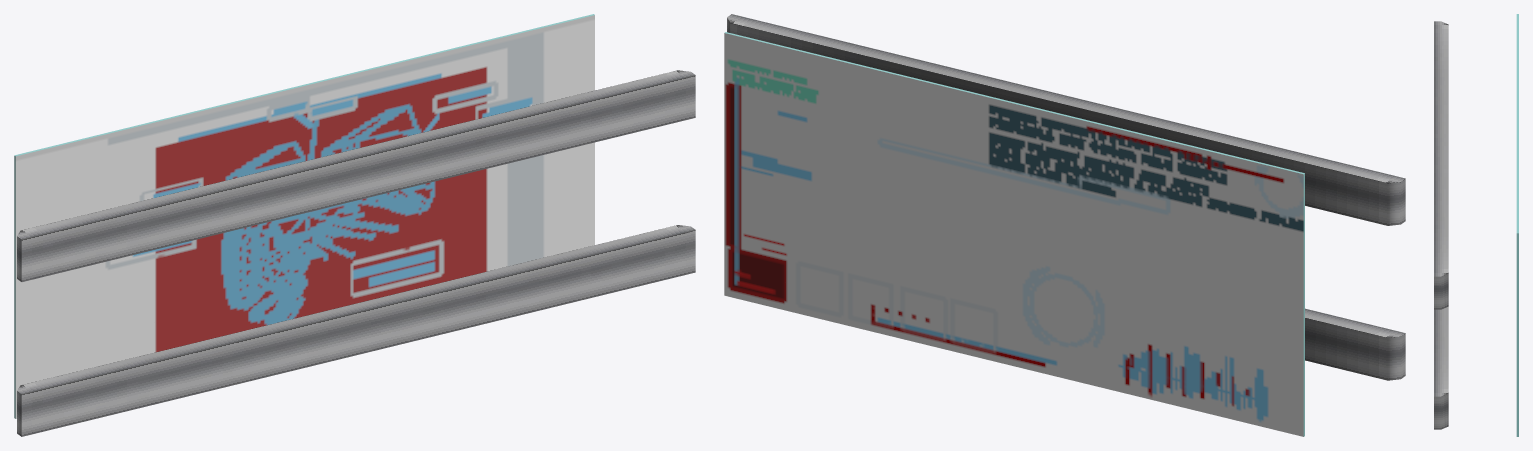
Rendered from WallScreen.fbx.
3 renders of one model, left to right at view 1: azimuth 30°, elevation 25°; view 2: azimuth 150°, elevation 25°; view 3: azimuth 270°, elevation 25°, orthographic. The views are drawn at different scales.
Parts seen in each view (by area): view 1: WallScreen_Screen, WallScreen_Bars; view 2: WallScreen_Screen, WallScreen_Bars; view 3: WallScreen_Bars, WallScreen_Screen.
Part boxes in pixels (x1,y1,x2,y2): WallScreen_Screen: (14,14,594,418); WallScreen_Bars: (17,70,695,436); WallScreen_Screen: (724,32,1304,436); WallScreen_Bars: (727,14,1405,380); WallScreen_Bars: (1434,21,1448,429); WallScreen_Screen: (1516,14,1518,436).
Size of the model in its own units: 3.87 by 1.44 by 0.545.
Materials: 2 (2 with a texture image).
